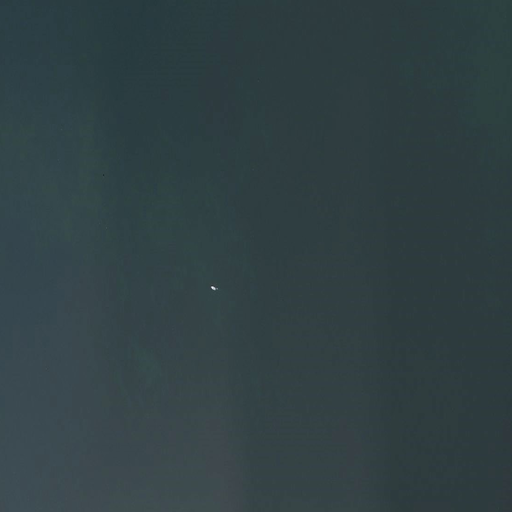ship: (209, 284, 218, 292)
